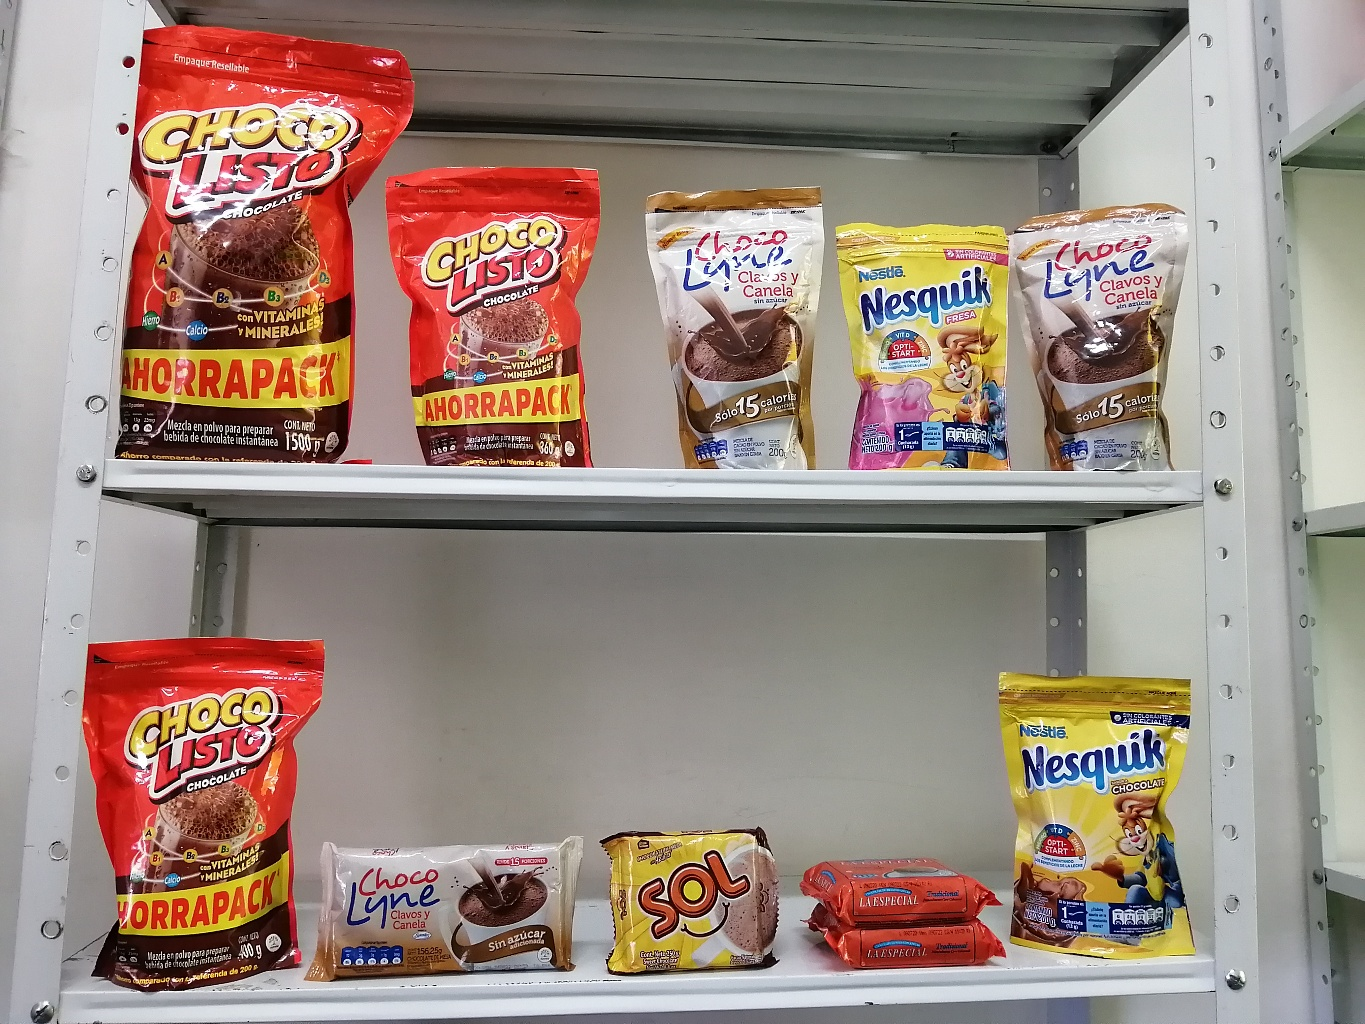COL0170103DYP1,500: (119, 18, 413, 464)
COL0170103DYP36000: (380, 147, 618, 470)
COL0170103DYP40000: (82, 613, 318, 978)
COL0170303DYP20000: (995, 662, 1215, 963)
COL0170305DYP20000: (830, 207, 1014, 463)
